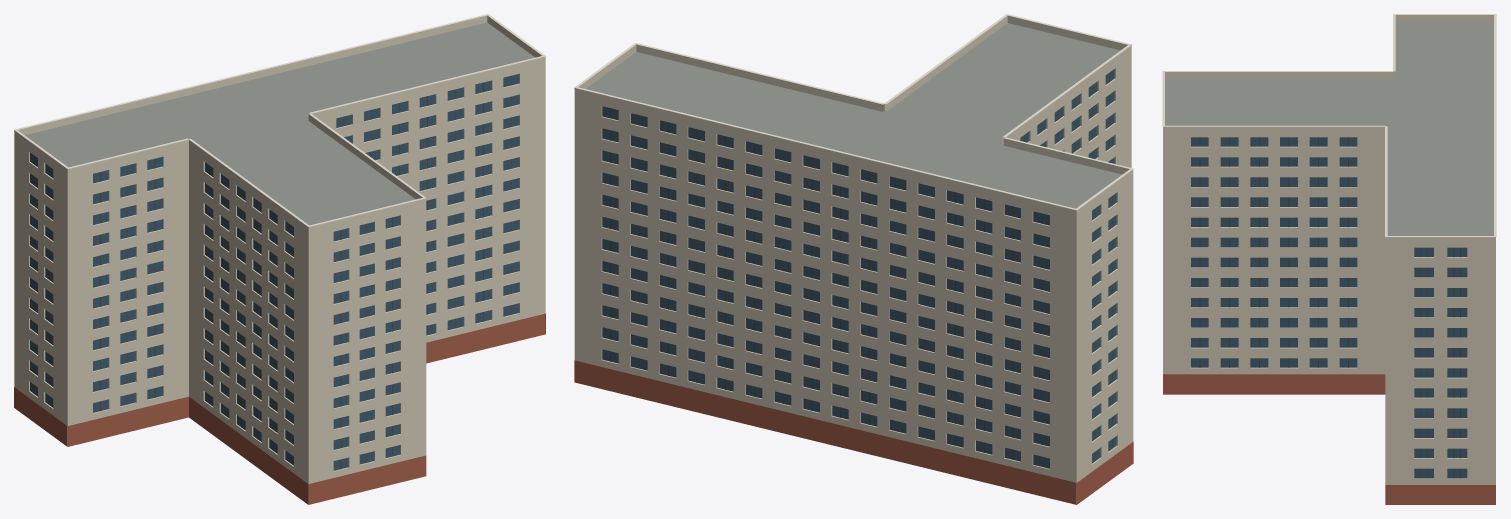
3 renders of one model, left to right at view 1: azimuth 30°, elevation 25°; view 2: azimuth 150°, elevation 25°; view 3: azimuth 270°, elevation 25°, orthographic. The views are drawn at different scales.
Visible parts, largest first — view 1: dreamHall__wall, dreamHall__roof, dreamHall__glass, dreamHall__base, dreamHall__parapet, dreamHall__trim, dreamHall__frame; view 2: dreamHall__wall, dreamHall__glass, dreamHall__roof, dreamHall__base, dreamHall__parapet, dreamHall__trim, dreamHall__frame; view 3: dreamHall__wall, dreamHall__roof, dreamHall__glass, dreamHall__base, dreamHall__parapet, dreamHall__trim, dreamHall__frame.
Boxes of the visible parts, x1=… form: dreamHall__wall: x1=14, y1=63, x2=545, y2=504; dreamHall__roof: x1=25, y1=22, x2=534, y2=225; dreamHall__glass: x1=30, y1=74, x2=519, y2=470; dreamHall__base: x1=14, y1=313, x2=545, y2=504; dreamHall__parapet: x1=14, y1=15, x2=545, y2=233; dreamHall__trim: x1=14, y1=14, x2=545, y2=227; dreamHall__frame: x1=34, y1=76, x2=511, y2=468; dreamHall__wall: x1=574, y1=52, x2=1133, y2=504; dreamHall__glass: x1=602, y1=69, x2=1116, y2=468; dreamHall__roof: x1=586, y1=23, x2=1121, y2=208; dreamHall__base: x1=574, y1=360, x2=1133, y2=504; dreamHall__parapet: x1=574, y1=15, x2=1133, y2=217; dreamHall__trim: x1=574, y1=14, x2=1133, y2=210; dreamHall__frame: x1=610, y1=72, x2=1112, y2=466; dreamHall__wall: x1=1163, y1=133, x2=1495, y2=484; dreamHall__roof: x1=1165, y1=21, x2=1493, y2=235; dreamHall__glass: x1=1191, y1=137, x2=1467, y2=478; dreamHall__base: x1=1163, y1=374, x2=1495, y2=504; dreamHall__parapet: x1=1163, y1=15, x2=1495, y2=243; dreamHall__trim: x1=1162, y1=14, x2=1496, y2=237; dreamHall__frame: x1=1199, y1=137, x2=1460, y2=478.
Size of the model in its own units: 71.43 by 40.02 by 45.22.
